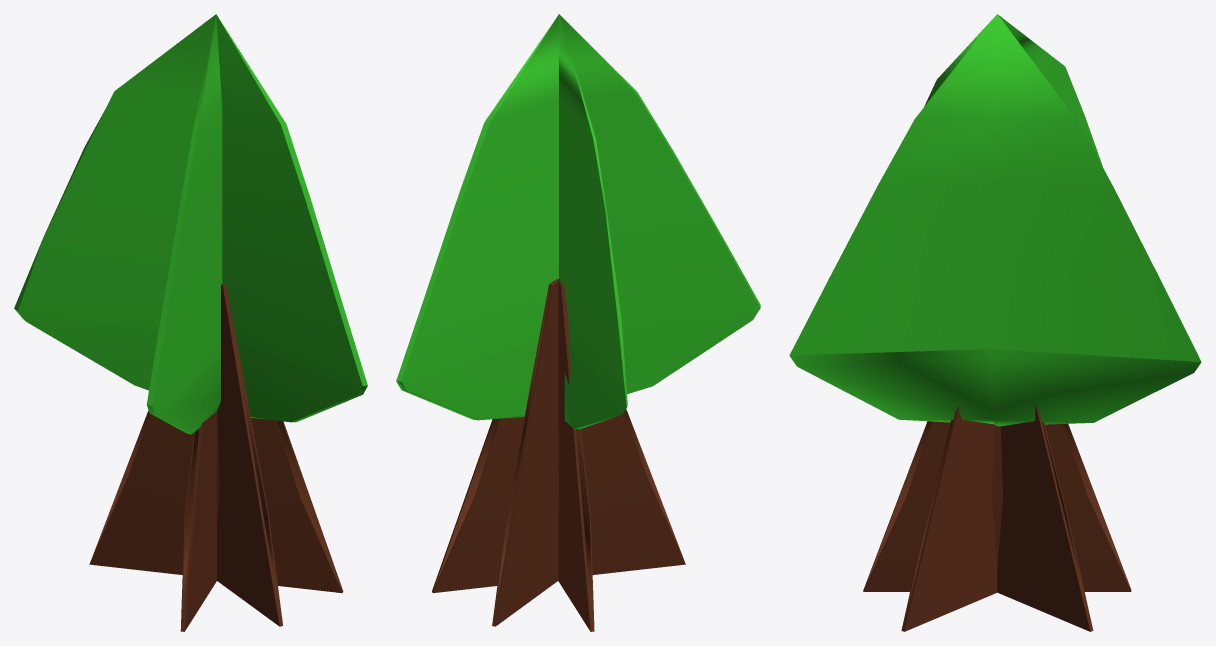
File: Arbre_02.FBX
The picture shows the model from 3 angles, left to right: view 1: azimuth 30°, elevation 25°; view 2: azimuth 150°, elevation 25°; view 3: azimuth 270°, elevation 25°; orthographic projection. The views are drawn at different scales.
Parts seen in each view (by area): view 1: Arbre_02; view 2: Arbre_02; view 3: Arbre_02.
Boxes of the visible parts, x1,y1,x2,y2 form: Arbre_02: [14, 14, 367, 631]; Arbre_02: [396, 14, 760, 631]; Arbre_02: [789, 14, 1201, 631].
Bounding box in the file's own units: 191 × 475 × 308.
